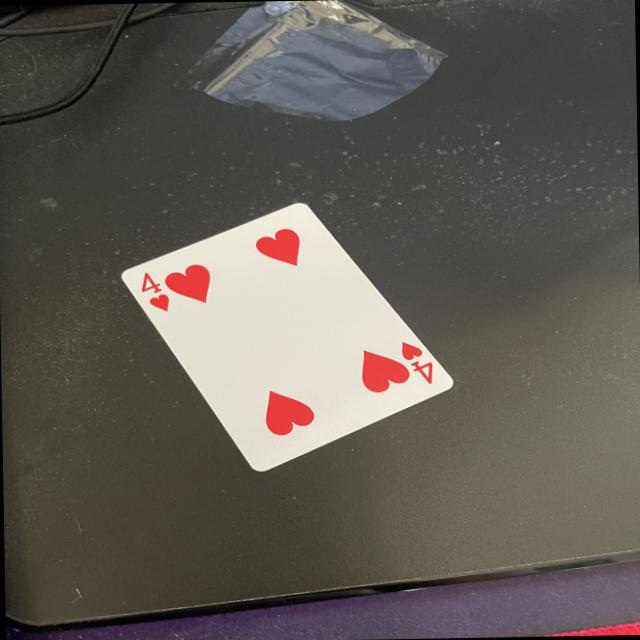4 of hearts: (121, 200, 457, 474)
